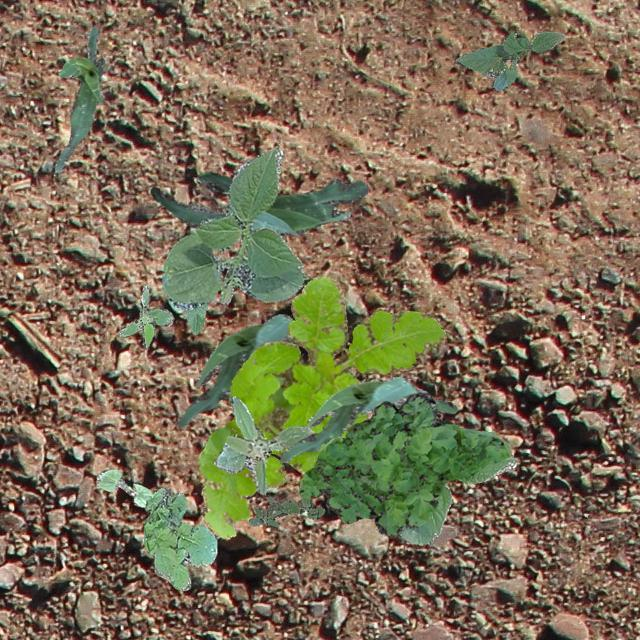crop: (160, 144, 304, 308), (280, 376, 456, 462), (150, 170, 366, 234), (177, 314, 297, 426), (398, 454, 516, 544), (54, 26, 104, 172), (454, 30, 564, 90), (96, 468, 152, 507), (182, 302, 206, 334)
weed: (195, 276, 446, 538), (298, 392, 508, 536), (214, 396, 312, 494), (142, 486, 215, 590), (118, 284, 172, 348), (248, 494, 324, 526)
